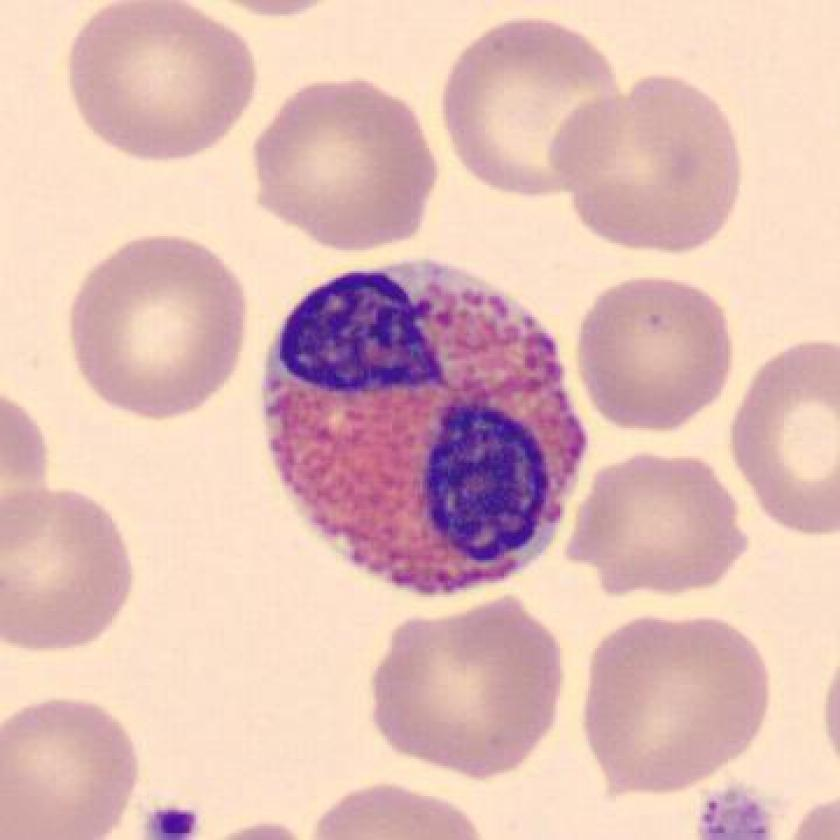eosinophil: (251, 246, 598, 612)
